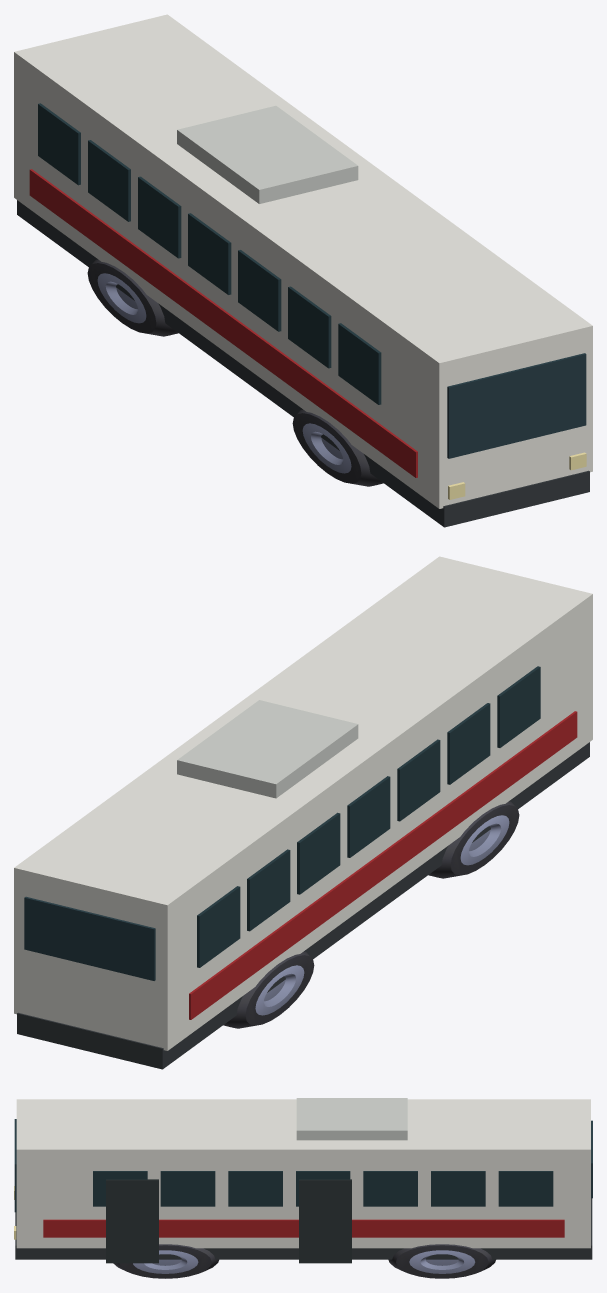
Rendered from muni-bus.glb.
The picture shows the model from 3 angles, top to bottom: view 1: azimuth 30°, elevation 25°; view 2: azimuth 150°, elevation 25°; view 3: azimuth 270°, elevation 25°; orthographic projection. The views are drawn at different scales.
Visible parts, largest first — view 1: bus-body, bus-window (×7), transit-red-stripe, roof-hvac, windshield, bus-chassis, wheel-back-right, wheel-front-right; view 2: bus-body, bus-window (×7), transit-red-stripe, roof-hvac, bus-chassis, rear-window, wheel-front-right, wheel-back-right; view 3: bus-body, bus-window (×7), double-door (×2), transit-red-stripe, roof-hvac, bus-chassis, wheel-back-left, wheel-front-left, windshield.
Boxes of the visible parts, x1,y1,x2,y2 form: bus-body: (14, 14, 592, 508); bus-window (×7): (38, 103, 381, 404); transit-red-stripe: (29, 169, 417, 477); roof-hvac: (177, 105, 358, 203); windshield: (447, 353, 586, 458); bus-chassis: (17, 200, 589, 527); wheel-back-right: (87, 259, 178, 336); wheel-front-right: (292, 409, 383, 486); bus-body: (14, 556, 592, 1050); bus-window (×7): (197, 666, 540, 967); transit-red-stripe: (189, 711, 577, 1019); roof-hvac: (177, 700, 358, 798); bus-chassis: (17, 742, 589, 1069); rear-window: (24, 896, 155, 980); wheel-front-right: (428, 801, 519, 878); wheel-back-right: (223, 951, 314, 1028); bus-body: (16, 1099, 590, 1248); bus-window (×7): (93, 1171, 553, 1206); double-door (×2): (106, 1179, 351, 1263); transit-red-stripe: (43, 1219, 564, 1237); roof-hvac: (296, 1098, 407, 1140); bus-chassis: (15, 1198, 592, 1259); wheel-back-left: (388, 1244, 495, 1278); wheel-front-left: (113, 1244, 218, 1278); windshield: (14, 1119, 16, 1212).
Size of the model in its own units: 2.64 by 3.23 by 11.99.
